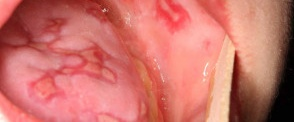SJS-TEN: (0, 3, 123, 111), (150, 0, 193, 38), (82, 2, 113, 28)
